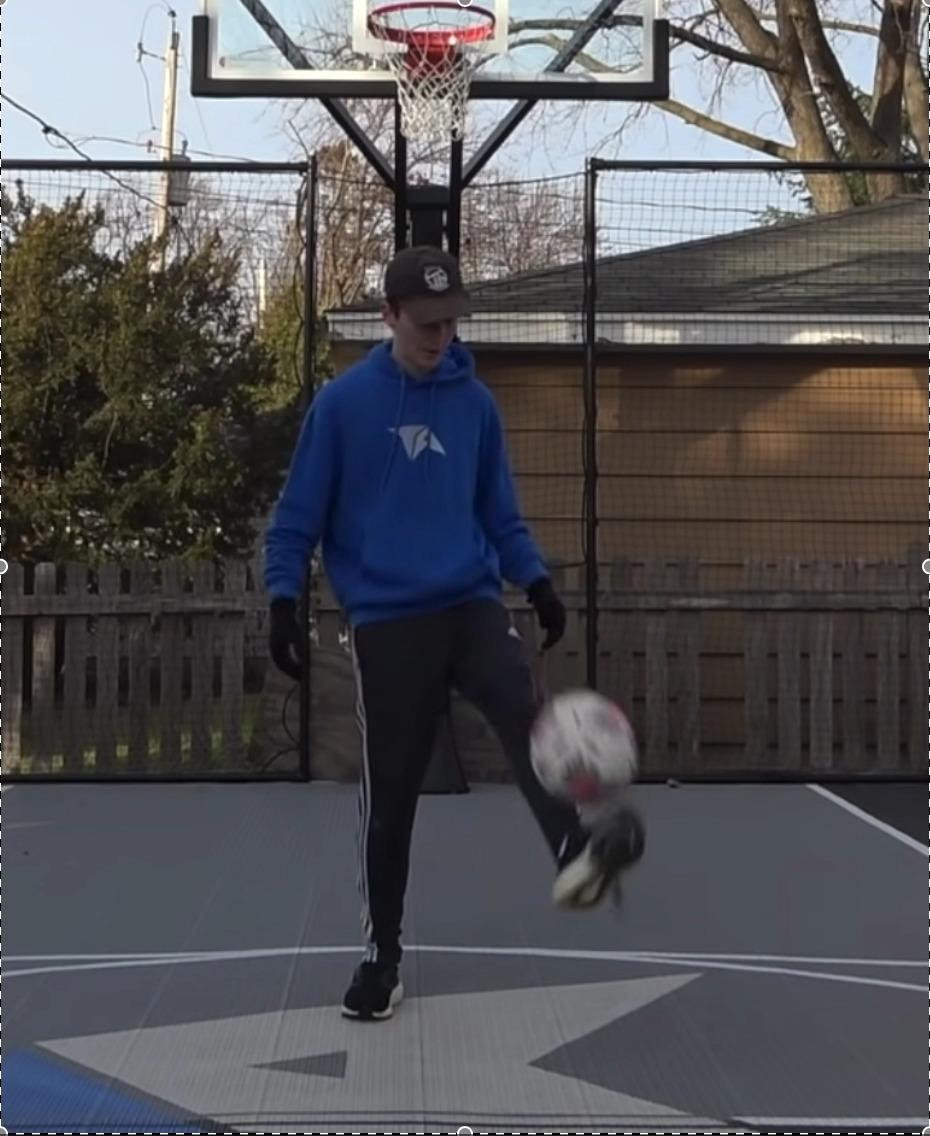ball: (531, 692, 636, 801)
foot: (547, 805, 646, 912), (340, 954, 403, 1021)
person: (267, 246, 640, 1015)
